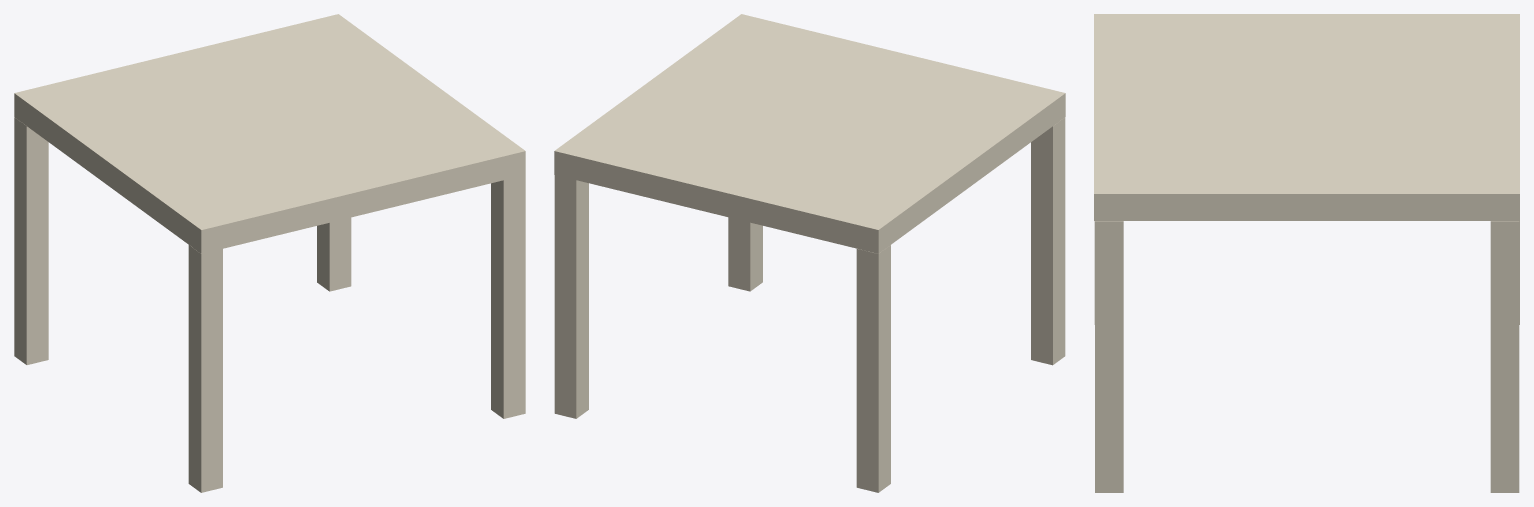
The model's file is Table.fbx.
3 renders of one model, left to right at view 1: azimuth 30°, elevation 25°; view 2: azimuth 150°, elevation 25°; view 3: azimuth 270°, elevation 25°, orthographic. The views are drawn at different scales.
Visible parts, largest first — view 1: Table; view 2: Table; view 3: Table.
Boxes of the visible parts, bbox=[...] form: Table: bbox=[14, 14, 525, 492]; Table: bbox=[554, 14, 1065, 492]; Table: bbox=[1094, 14, 1519, 492].
Size of the model in its own units: 580 by 449 by 580.
